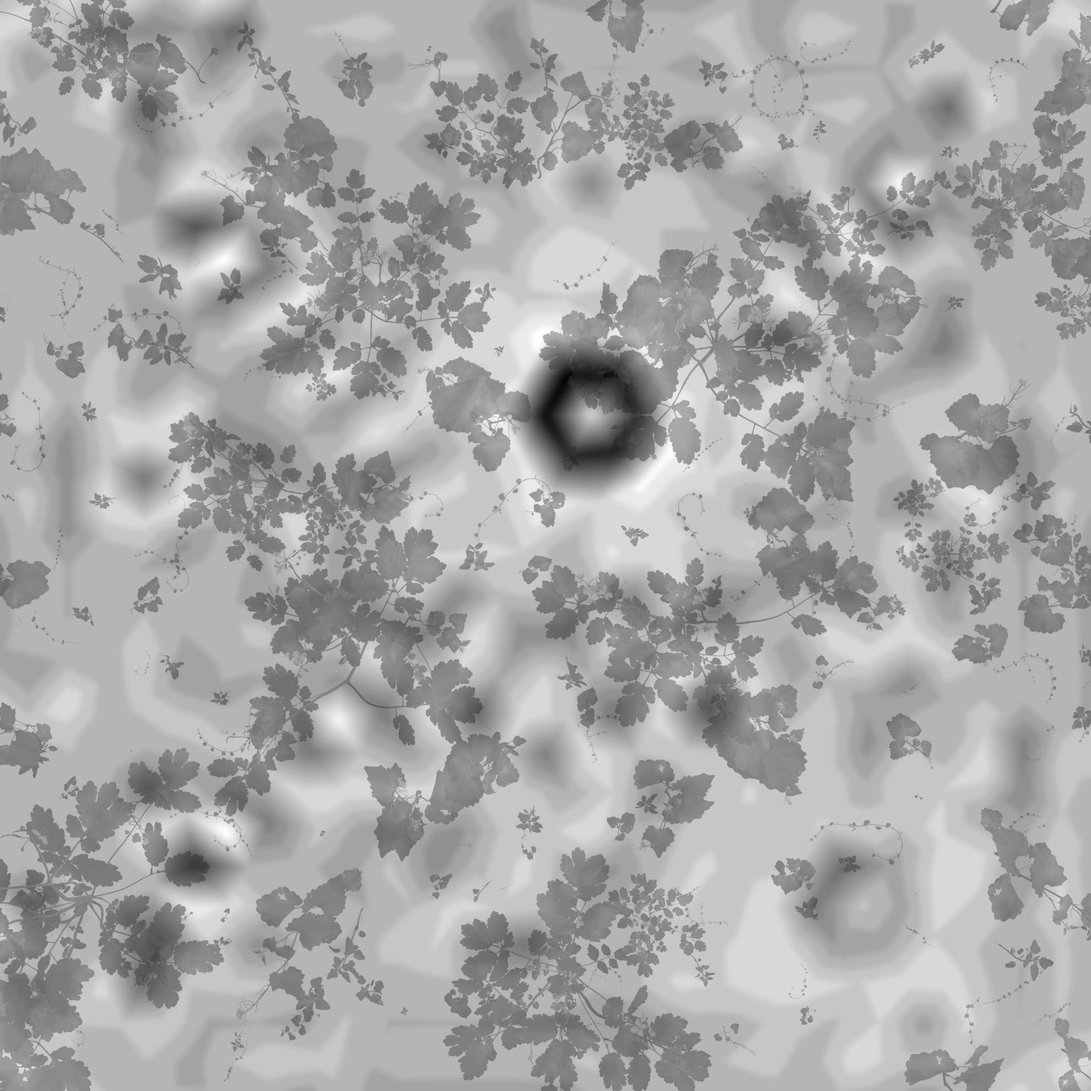landmine: (511, 333, 658, 491), (791, 846, 920, 971)
